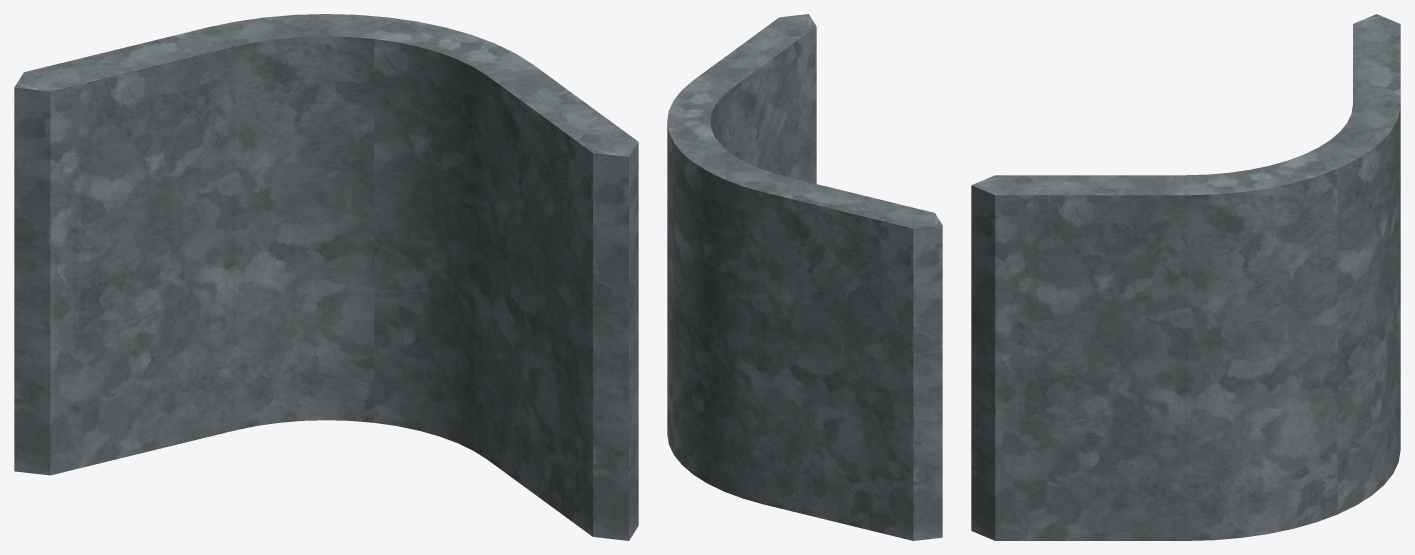
The model's file is wall_curved.fbx.
3 views of the same model, side by side, from view 1: azimuth 30°, elevation 25°; view 2: azimuth 150°, elevation 25°; view 3: azimuth 270°, elevation 25° (orthographic). The views are drawn at different scales.
Parts seen in each view (by area): view 1: wall_cornerBevel; view 2: wall_cornerBevel; view 3: wall_cornerBevel.
Part boxes in pixels (left/top/right/bottom): wall_cornerBevel: left=14, top=14, right=638, bottom=540; wall_cornerBevel: left=667, top=14, right=942, bottom=540; wall_cornerBevel: left=971, top=14, right=1400, bottom=540.
Size of the model in its own units: 11.25 by 10 by 11.25.
Materials: 1 (1 with a texture image).
